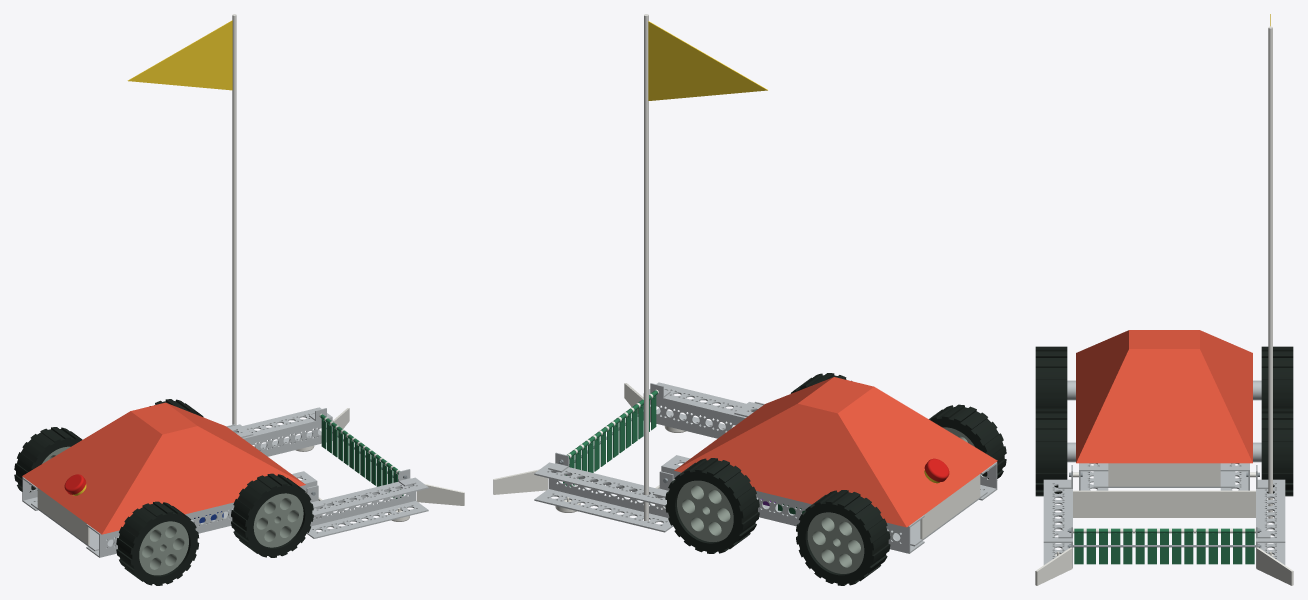
File: mulligan.glb
3 views of the same model, side by side, from view 1: azimuth 30°, elevation 25°; view 2: azimuth 150°, elevation 25°; view 3: azimuth 270°, elevation 25° (orthographic). The views are drawn at different scales.
Parts seen in each view (by area): view 1: shell, pen/pen_wall_right, flag/flag, drive/tyre_rear_right, drive/tyre_front_right, pen/pen_wall_left, drive/wheel_front_right, drive/wheel_rear_right, flag/flag_pole, drive/tyre_rear_left, chassis/rail_right, chassis/skirt_rear (+1 smaller); view 2: shell, pen/pen_wall_left, flag/flag, drive/tyre_front_left, drive/tyre_rear_left, pen/pen_wall_right, drive/wheel_rear_left, drive/wheel_front_left, flag/flag_pole, drive/tyre_rear_right, chassis/rail_left, chassis/skirt_rear (+2 smaller); view 3: shell, pen/pen_back_wall, chassis/skirt_front, drive/tyre_front_right, flag/flag_pole, drive/tyre_front_left, drive/tyre_rear_right, pen/pen_wall_right, pen/pen_wall_left, drive/tyre_rear_left, chassis/floor_plate, pen/funnel_wing_right (+16 smaller).
Part boxes in pixels (x1,y1,x2,y2): shell: (22,402,305,534); pen/pen_wall_right: (307,477,428,538); flag/flag: (127,20,232,90); drive/tyre_rear_right: (116,501,199,585); drive/tyre_front_right: (231,473,313,557); pen/pen_wall_left: (242,407,332,456); drive/wheel_front_right: (253,493,303,547); drive/wheel_rear_right: (139,521,188,575); flag/flag_pole: (232,14,236,425); drive/tyre_rear_left: (14,427,82,492); chassis/rail_right: (86,471,317,557); chassis/skirt_rear: (37,488,89,545); shell: (674,377,997,527); pen/pen_wall_left: (534,462,673,532); flag/flag: (648,21,767,100); drive/tyre_front_left: (665,458,759,553); drive/tyre_rear_left: (796,490,890,585); pen/pen_wall_right: (643,382,746,438); drive/wheel_rear_left: (807,512,864,573); drive/wheel_front_left: (677,480,733,541); flag/flag_pole: (644,14,648,520); drive/tyre_rear_right: (929,404,1006,479); chassis/rail_left: (661,455,924,553); chassis/skirt_rear: (920,474,980,539); shell: (1076,330,1252,463); pen/pen_back_wall: (1073,490,1255,517); chassis/skirt_front: (1108,463,1220,486); drive/tyre_front_right: (1035,408,1067,496); flag/flag_pole: (1268,26,1272,518); drive/tyre_front_left: (1261,408,1293,496); drive/tyre_rear_right: (1035,346,1067,408); pen/pen_wall_right: (1043,479,1072,567); pen/pen_wall_left: (1256,479,1285,567); drive/tyre_rear_left: (1261,346,1293,408); chassis/floor_plate: (1093,463,1235,487); pen/funnel_wing_right: (1035,547,1072,585).
Size of the model in its own units: 0.7253 by 0.9 by 0.423.
